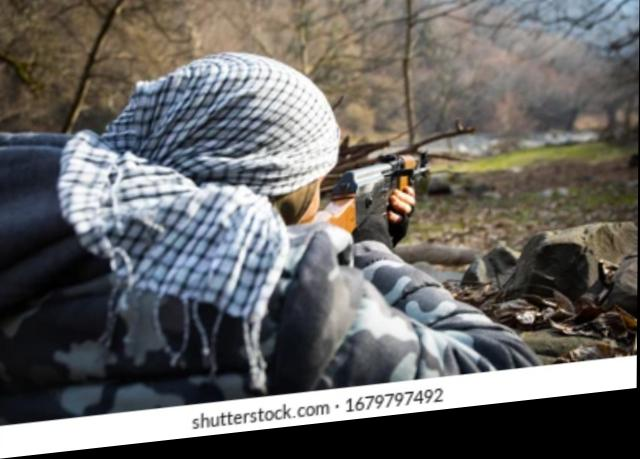other: (7, 49, 341, 421)
